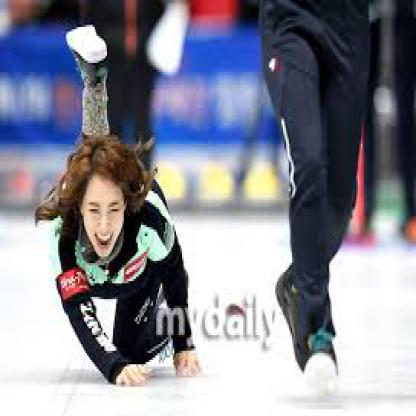Fall_Down: (33, 22, 207, 393)
